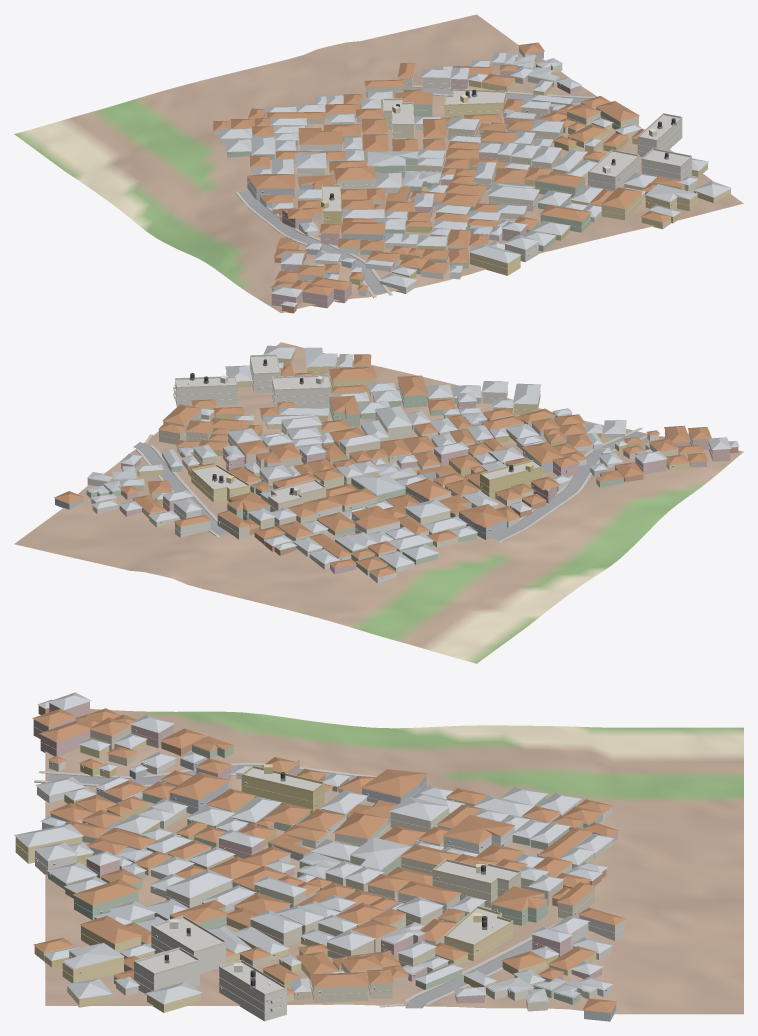
3 views of the same model, one above another, from view 1: azimuth 30°, elevation 25°; view 2: azimuth 150°, elevation 25°; view 3: azimuth 270°, elevation 25° (orthographic). The views are drawn at different scales.
Parts seen in each view (by area): view 1: Buildings-col, Terrain-col, Details, Roads-col, Sidewalks-col; view 2: Buildings-col, Terrain-col, Details, Roads-col, Sidewalks-col; view 3: Buildings-col, Terrain-col, Details, Roads-col, Sidewalks-col.
Boxes of the visible parts, x1=… form: Buildings-col: x1=213, y1=42, x2=731, y2=313; Terrain-col: x1=14, y1=14, x2=743, y2=313; Details: x1=229, y1=70, x2=697, y2=302; Roads-col: x1=239, y1=87, x2=591, y2=293; Sidewalks-col: x1=235, y1=85, x2=595, y2=298; Buildings-col: x1=54, y1=345, x2=739, y2=583; Terrain-col: x1=14, y1=342, x2=743, y2=663; Details: x1=87, y1=354, x2=730, y2=578; Roads-col: x1=133, y1=431, x2=646, y2=540; Sidewalks-col: x1=136, y1=427, x2=647, y2=542; Buildings-col: x1=14, y1=692, x2=625, y2=1021; Terrain-col: x1=45, y1=709, x2=743, y2=1014; Details: x1=15, y1=708, x2=624, y2=1012; Roads-col: x1=47, y1=765, x2=579, y2=1008; Sidewalks-col: x1=34, y1=763, x2=558, y2=1007.
Bounding box in the file's own units: 268 × 20.16 × 267.
